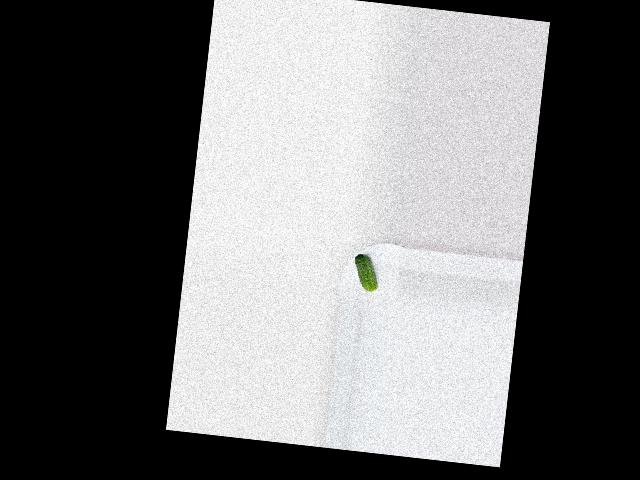cucumber: (351, 253, 381, 292)
